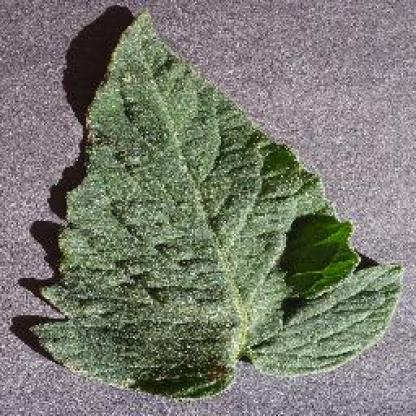good leaf: (45, 42, 379, 352)
